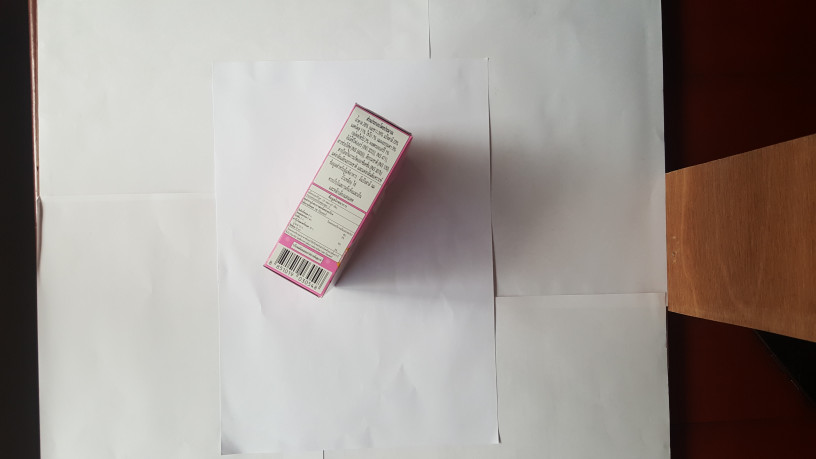collon-strawberry: (262, 103, 416, 298)
